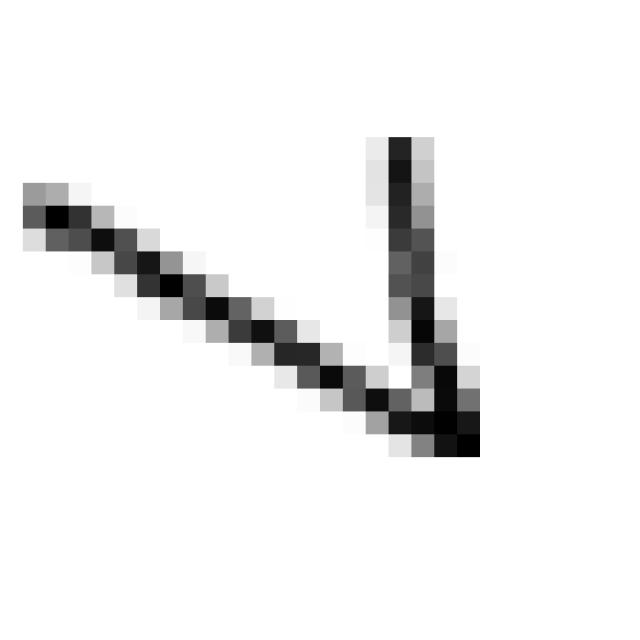7 -seven-: (12, 119, 503, 478)
